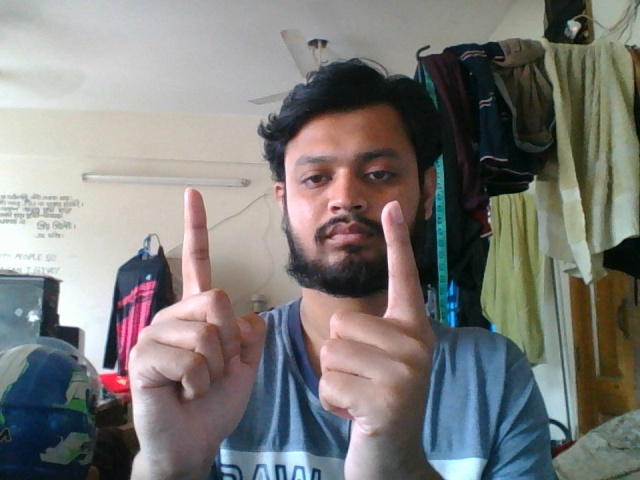ishara: (113, 185, 451, 480)
